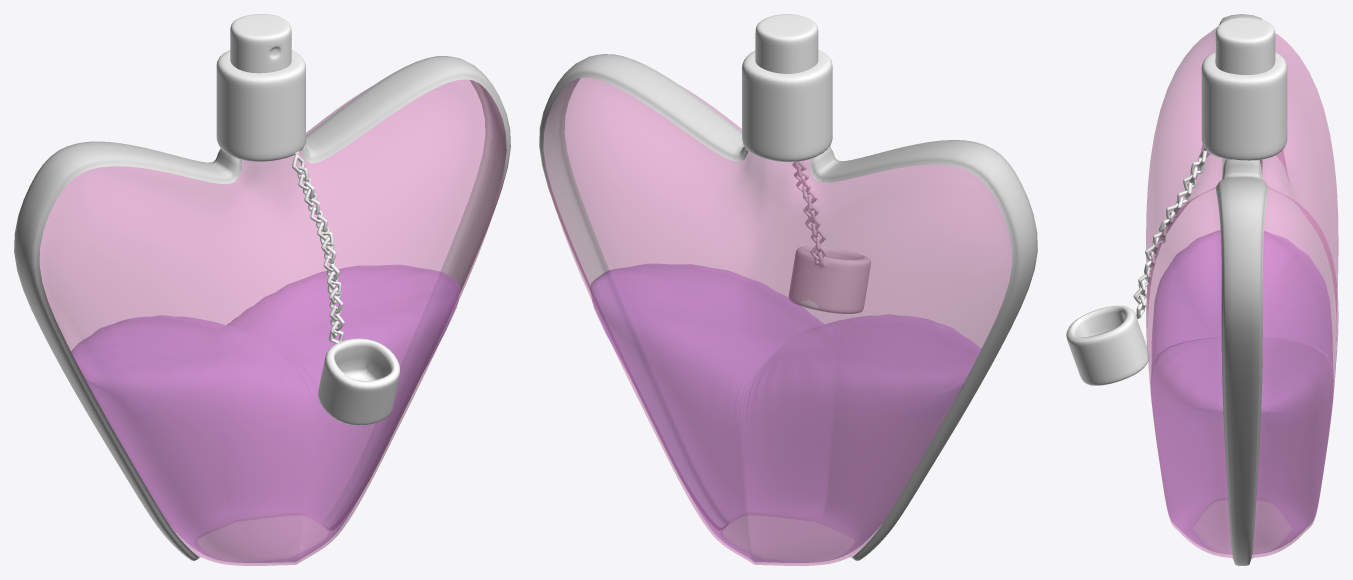
Rendered from perfume1.glb.
The picture shows the model from 3 angles, left to right: view 1: azimuth 30°, elevation 25°; view 2: azimuth 150°, elevation 25°; view 3: azimuth 270°, elevation 25°; orthographic projection. The views are drawn at different scales.
Visible parts, largest first — view 1: Object_2, Object_3, Object_4, Object_5, Object_7, Object_6; view 2: Object_2, Object_3, Object_4, Object_5, Object_7, Object_6; view 3: Object_2, Object_3, Object_4, Object_5, Object_7, Object_6.
Part boxes in pixels (bbox=[...]): Object_2: bbox=[39, 79, 506, 565]; Object_3: bbox=[71, 265, 459, 562]; Object_4: bbox=[14, 56, 510, 560]; Object_5: bbox=[216, 50, 334, 255]; Object_7: bbox=[318, 329, 400, 425]; Object_6: bbox=[230, 14, 344, 337]; Object_2: bbox=[544, 77, 1012, 565]; Object_3: bbox=[590, 264, 980, 562]; Object_4: bbox=[539, 54, 1037, 560]; Object_5: bbox=[742, 50, 832, 192]; Object_7: bbox=[788, 246, 870, 313]; Object_6: bbox=[755, 14, 826, 261]; Object_2: bbox=[1146, 26, 1338, 558]; Object_3: bbox=[1150, 230, 1333, 554]; Object_4: bbox=[1215, 14, 1268, 565]; Object_5: bbox=[1159, 51, 1287, 239]; Object_7: bbox=[1066, 303, 1149, 385]; Object_6: bbox=[1133, 17, 1275, 309].
Size of the model in its own units: 1.29 by 1.32 by 0.6456.
